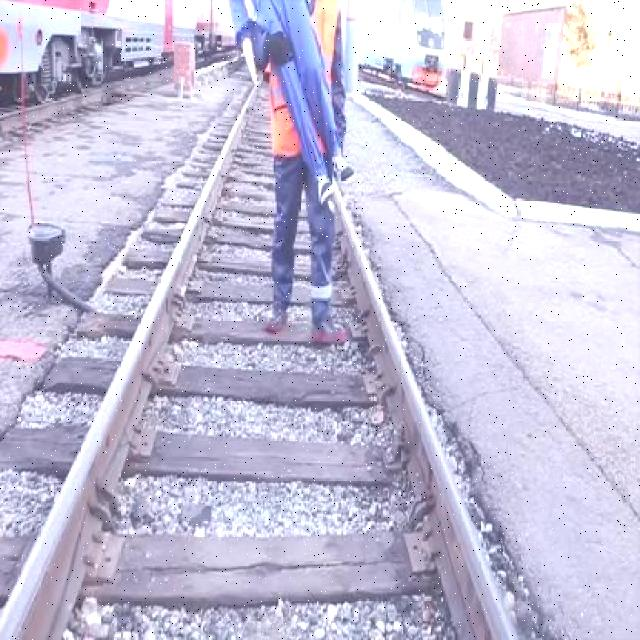Mask: (269, 0, 342, 160)
